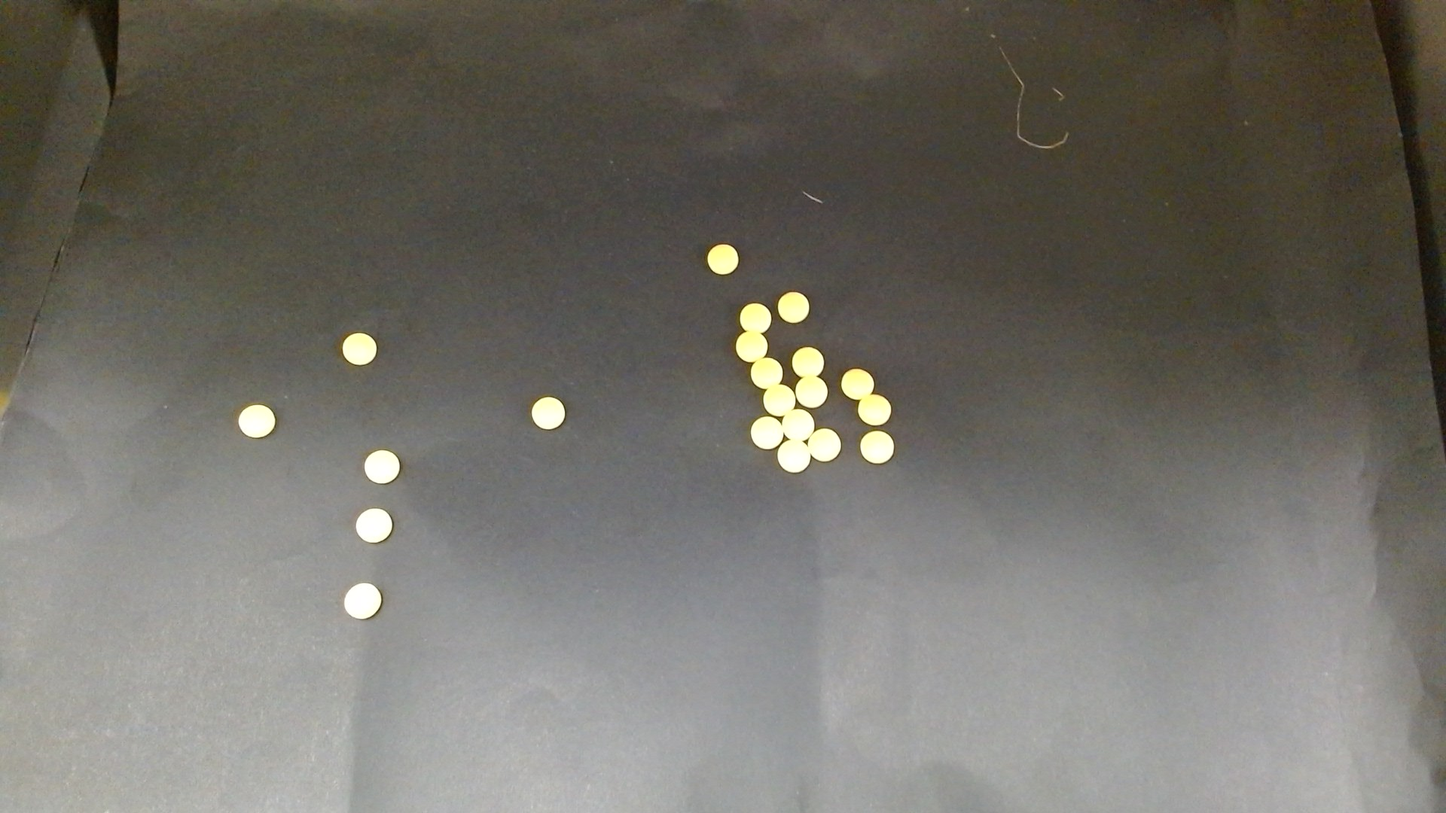Circle: (352, 506, 395, 546), (342, 581, 383, 620), (236, 403, 279, 440), (529, 396, 566, 431), (364, 449, 400, 484), (340, 331, 377, 365), (705, 242, 740, 276), (859, 430, 894, 464), (795, 373, 827, 408), (807, 428, 840, 461), (778, 439, 810, 473), (750, 416, 782, 449), (858, 394, 891, 426), (840, 367, 873, 399), (763, 383, 795, 415), (781, 409, 813, 441), (777, 291, 809, 323), (791, 346, 824, 377), (736, 330, 767, 362), (738, 302, 770, 333), (750, 357, 782, 388)
